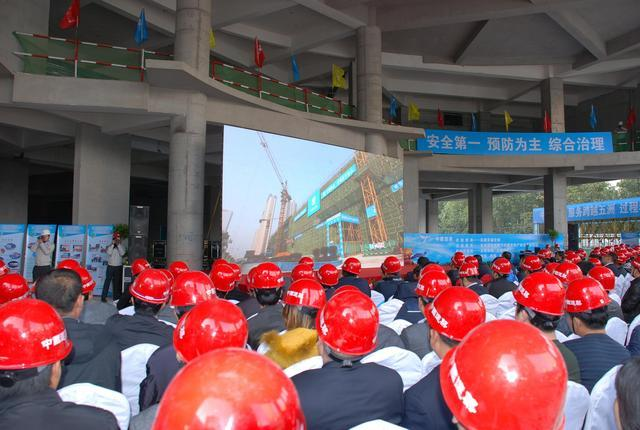helmet: (438, 319, 569, 430), (151, 350, 309, 430), (1, 300, 74, 372), (174, 301, 255, 364), (318, 291, 380, 357), (424, 288, 491, 343), (513, 272, 567, 318), (171, 270, 218, 309), (130, 270, 174, 306), (284, 279, 332, 311), (567, 279, 611, 313), (1, 272, 33, 306), (416, 272, 452, 301), (249, 263, 288, 289), (65, 267, 98, 294), (588, 267, 619, 292), (211, 266, 238, 294), (555, 263, 583, 283), (291, 265, 317, 282), (381, 257, 405, 275), (320, 265, 340, 286), (342, 258, 365, 276), (491, 258, 513, 276), (131, 258, 152, 275), (458, 264, 480, 280), (520, 257, 543, 272), (563, 254, 584, 266), (298, 257, 316, 268), (453, 253, 466, 267), (616, 252, 628, 265), (467, 257, 481, 268), (538, 250, 552, 260), (589, 258, 603, 267), (632, 257, 640, 272), (576, 250, 588, 259), (591, 249, 601, 257)
